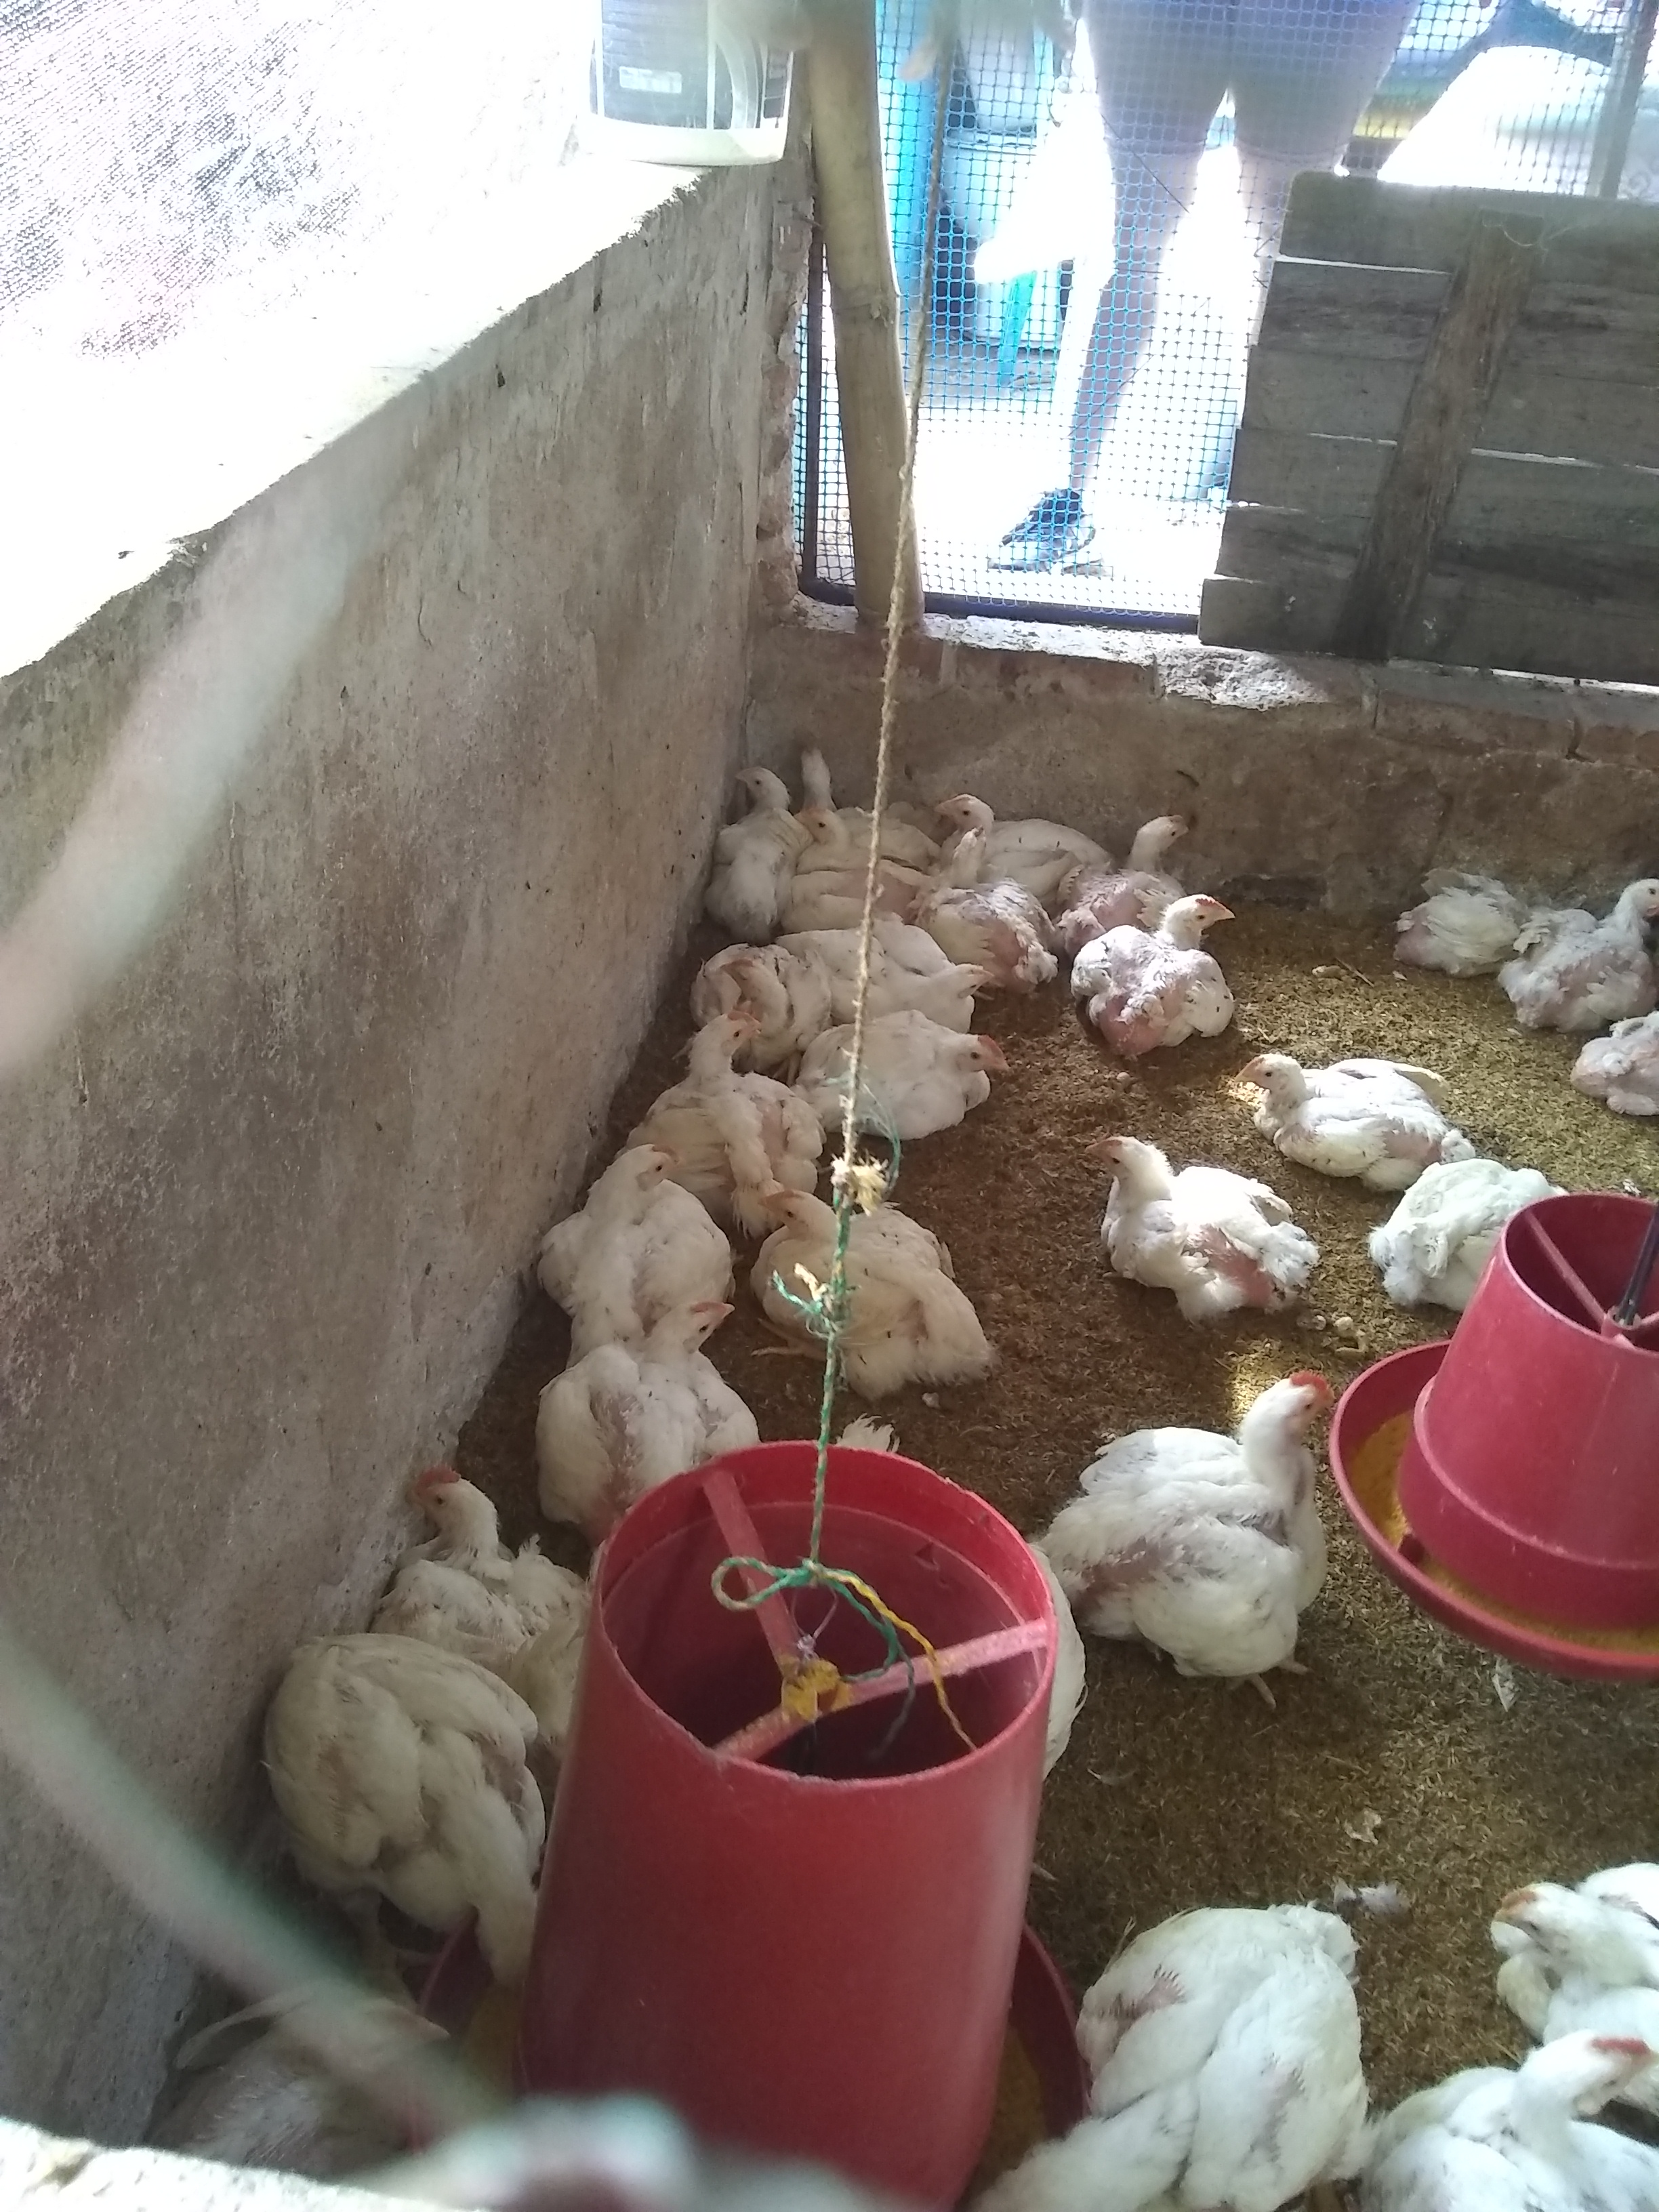Pollos: (1023, 1869, 1391, 2212), (1030, 1366, 1354, 1696), (279, 1616, 549, 1994), (1363, 1996, 1659, 2212), (509, 1280, 756, 1522), (751, 1195, 1000, 1418), (1070, 1122, 1317, 1325), (373, 1446, 568, 1689), (1455, 1804, 1659, 2034), (575, 1012, 817, 1198), (1216, 1021, 1434, 1165), (1373, 1155, 1570, 1303), (530, 1134, 695, 1310), (802, 906, 995, 1050), (802, 1021, 1025, 1132), (1506, 867, 1659, 1024), (1077, 907, 1236, 1052), (1371, 829, 1528, 965), (924, 834, 1056, 981), (683, 927, 802, 1036), (711, 752, 798, 900), (931, 780, 1070, 866), (1091, 806, 1194, 906), (1579, 1001, 1659, 1122), (782, 737, 854, 799), (795, 801, 859, 866)
